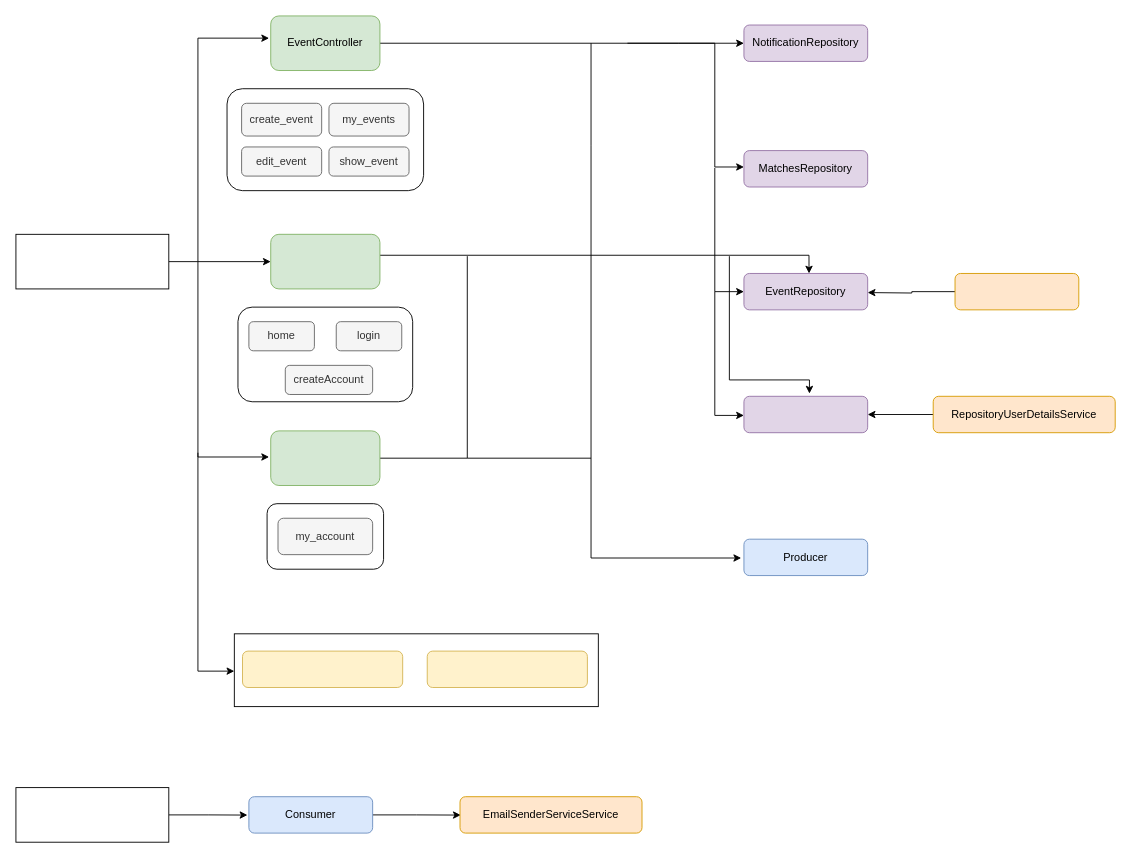
Some shapes in this 1131 by 858 pixel diagram are drawn without their labels. The centre of each missing label's shape, as x and y in pixels:
"CSRFHandlerConfiguration" goes at [322,669].
"eFightclub" goes at [92,261].
"EventService" goes at [1016,291].
"HomeController" goes at [325,261].
"SecurityConfiguration" goes at [506,669].
"servicio_interno" goes at [92,814].
"UserController" goes at [325,457].
"UsersRepository" goes at [805,414].
